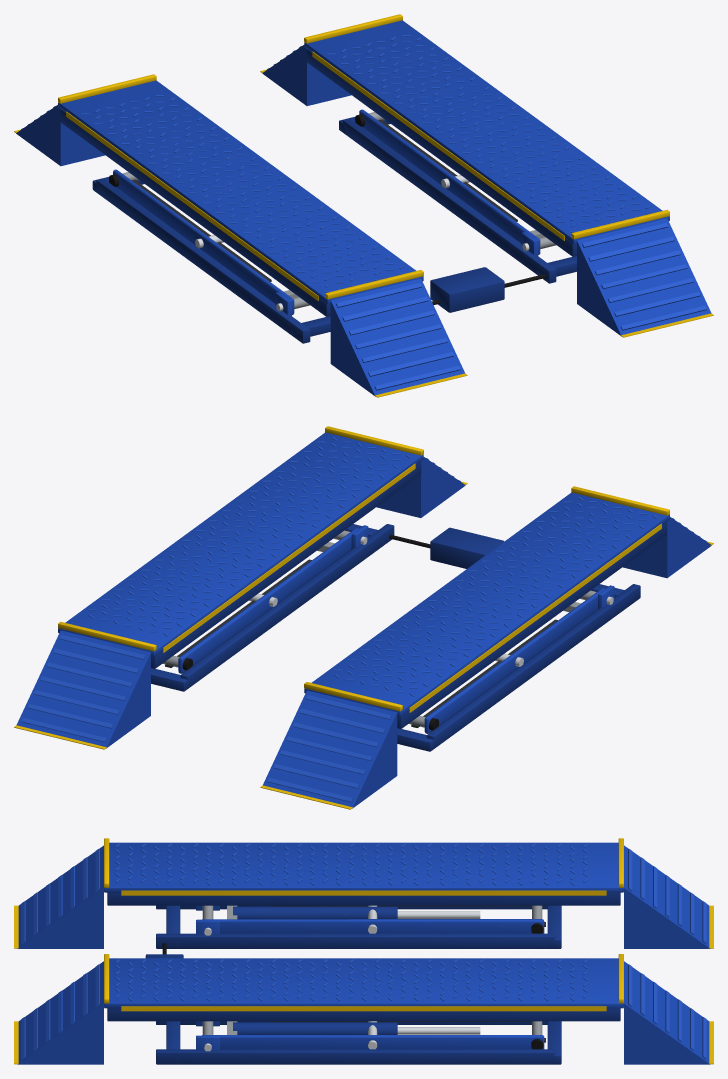
File: scissor-lift.glb
The picture shows the model from 3 angles, top to bottom: view 1: azimuth 30°, elevation 25°; view 2: azimuth 150°, elevation 25°; view 3: azimuth 270°, elevation 25°; orthographic projection. The views are drawn at different scales.
Parts seen in each view (by area): view 1: Base, Runway_L_mesh, Runway_R_mesh, ArmBase_L_mesh, ArmBase_R_mesh; view 2: Base, Runway_L_mesh, Runway_R_mesh, ArmBase_L_mesh, ArmBase_R_mesh; view 3: Base, Runway_L_mesh, Runway_R_mesh, ArmBase_R_mesh, ArmBase_L_mesh.
Boxes of the visible parts, x1,y1,x2,y2 form: Base: (14, 45, 713, 397); Runway_L_mesh: (58, 74, 423, 316); Runway_R_mesh: (304, 14, 669, 256); ArmBase_L_mesh: (109, 169, 309, 314); ArmBase_R_mesh: (355, 109, 556, 254); Base: (14, 457, 713, 809); Runway_L_mesh: (304, 486, 669, 728); Runway_R_mesh: (58, 426, 423, 668); ArmBase_L_mesh: (409, 588, 604, 733); ArmBase_R_mesh: (162, 528, 358, 673); Base: (14, 845, 713, 1064); Runway_L_mesh: (104, 838, 623, 905); Runway_R_mesh: (104, 954, 623, 1021); ArmBase_R_mesh: (202, 1021, 544, 1049); ArmBase_L_mesh: (202, 905, 544, 933).
Bounding box in the file's own units: 2.21 × 0.4273 × 4.04.
